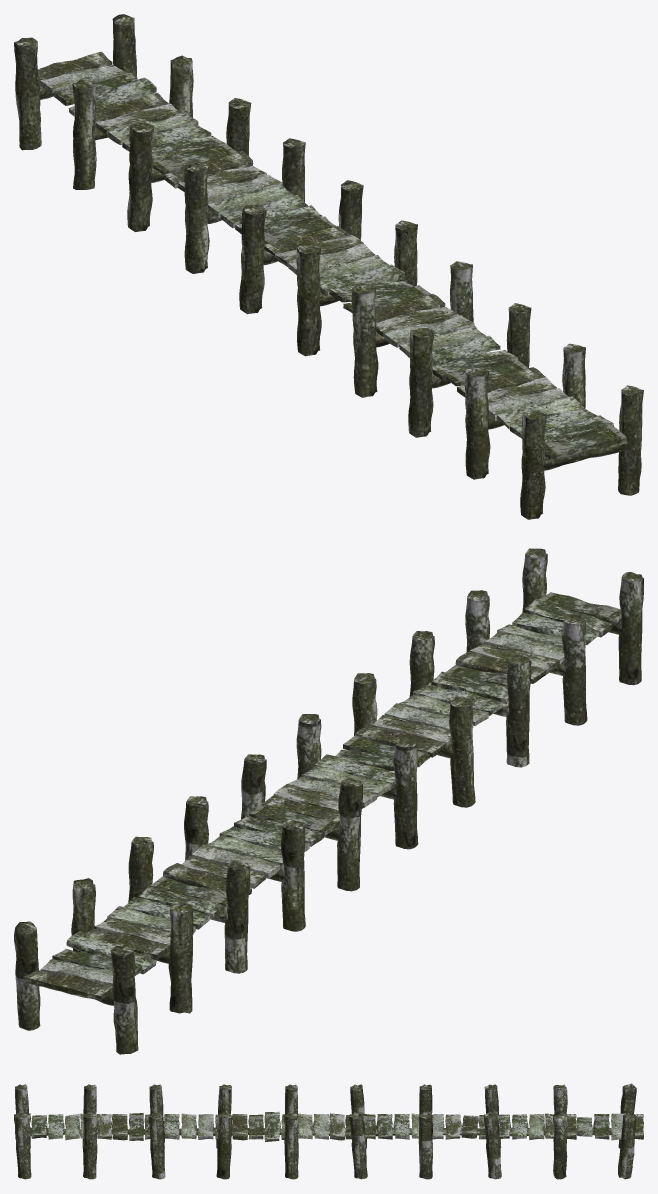
The model's file is dock(formats).fbx.
The picture shows the model from 3 angles, top to bottom: view 1: azimuth 30°, elevation 25°; view 2: azimuth 150°, elevation 25°; view 3: azimuth 270°, elevation 25°; orthographic projection. The views are drawn at different scales.
Parts seen in each view (by area): view 1: direkler, basamaklar; view 2: direkler, basamaklar; view 3: direkler, basamaklar, kiris.
Part boxes in pixels (left/top/right/bottom): direkler: left=14, top=14, right=643, bottom=519; basamaklar: left=37, top=51, right=626, bottom=459; direkler: left=14, top=548, right=643, bottom=1054; basamaklar: left=23, top=592, right=621, bottom=1000; direkler: left=14, top=1083, right=636, bottom=1179; basamaklar: left=15, top=1111, right=643, bottom=1141; kiris: left=30, top=1127, right=611, bottom=1136.
Bounding box in the file's own units: 371 × 310 × 2823.
Materials: 3 (3 with a texture image).
